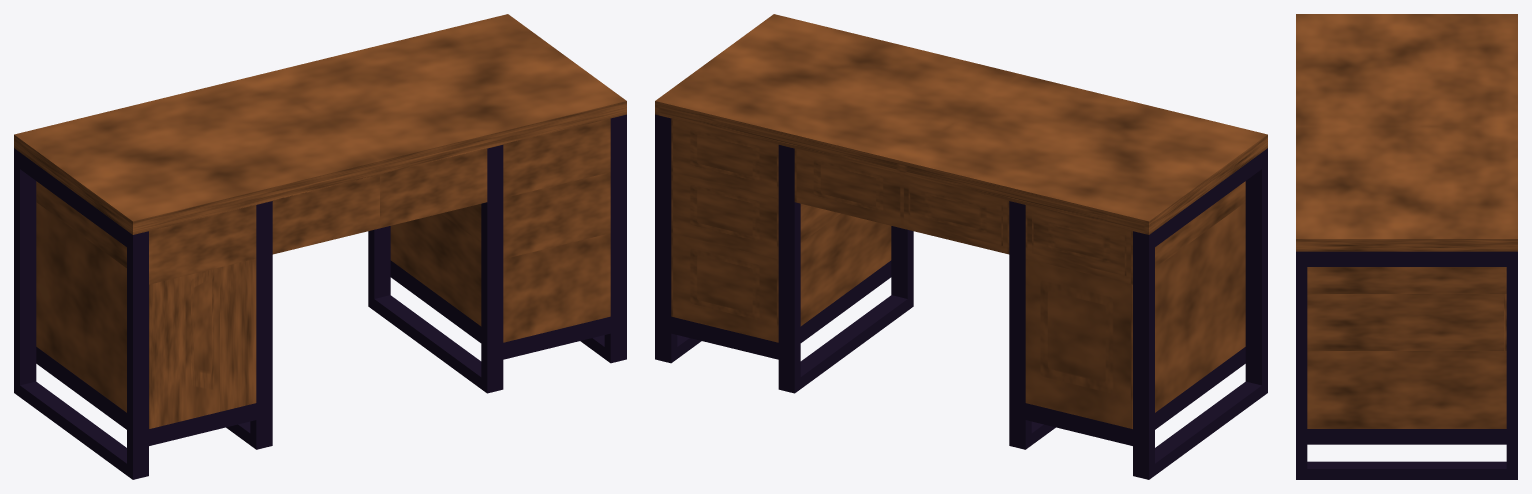
Rendered from HomeOffice_Table.glb.
3 views of the same model, side by side, from view 1: azimuth 30°, elevation 25°; view 2: azimuth 150°, elevation 25°; view 3: azimuth 270°, elevation 25° (orthographic). The views are drawn at different scales.
Parts seen in each view (by area): view 1: Table_PLATE, Frame, Right_Shelf, Left_Shelf, Upper_Drawer, Lower_Drawer, Top_Drawer_Right, Top_Drawer_Left; view 2: Table_PLATE, Frame, Right_Shelf_FRONT, Right_Shelf, Upper_Drawer_INNER, Left_Shelf_INNER, Lower_Drawer_INNER, Left_Shelf, Left_Drawer_INNER, Right_Drawer_INNER, Upper_Drawer, Lower_Drawer; view 3: Table_PLATE, Left_Shelf, Frame, Lower_Drawer, Upper_Drawer.
Boxes of the visible parts, x1=… form: Table_PLATE: x1=14, y1=14, x2=626, y2=234; Frame: x1=14, y1=114, x2=626, y2=479; Right_Shelf: x1=36, y1=202, x2=256, y2=428; Left_Shelf: x1=390, y1=213, x2=610, y2=342; Upper_Drawer: x1=37, y1=118, x2=610, y2=284; Lower_Drawer: x1=441, y1=172, x2=610, y2=259; Top_Drawer_Right: x1=272, y1=174, x2=379, y2=254; Top_Drawer_Left: x1=380, y1=148, x2=487, y2=228; Table_PLATE: x1=655, y1=14, x2=1267, y2=234; Frame: x1=655, y1=114, x2=1267, y2=479; Right_Shelf_FRONT: x1=1025, y1=258, x2=1132, y2=428; Right_Shelf: x1=1155, y1=202, x2=1245, y2=412; Upper_Drawer_INNER: x1=671, y1=118, x2=1132, y2=284; Left_Shelf_INNER: x1=671, y1=233, x2=778, y2=342; Lower_Drawer_INNER: x1=671, y1=172, x2=778, y2=259; Left_Shelf: x1=800, y1=213, x2=891, y2=326; Left_Drawer_INNER: x1=794, y1=148, x2=901, y2=228; Right_Drawer_INNER: x1=902, y1=174, x2=1009, y2=254; Upper_Drawer: x1=1155, y1=181, x2=1245, y2=267; Lower_Drawer: x1=800, y1=204, x2=840, y2=242; Table_PLATE: x1=1296, y1=14, x2=1517, y2=251; Left_Shelf: x1=1307, y1=351, x2=1506, y2=428; Frame: x1=1296, y1=251, x2=1517, y2=479; Lower_Drawer: x1=1307, y1=294, x2=1503, y2=350; Upper_Drawer: x1=1307, y1=267, x2=1505, y2=293.
Bounding box in the file's own units: 1.52 × 0.762 × 0.635.
Materials: 2 (1 with a texture image).
